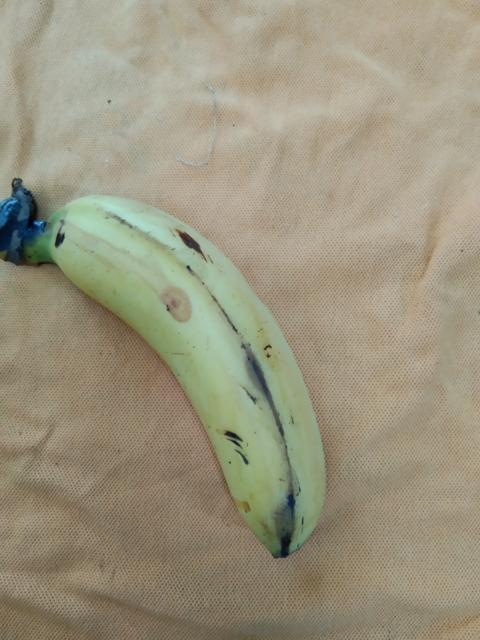ripe: (42, 184, 335, 555)
